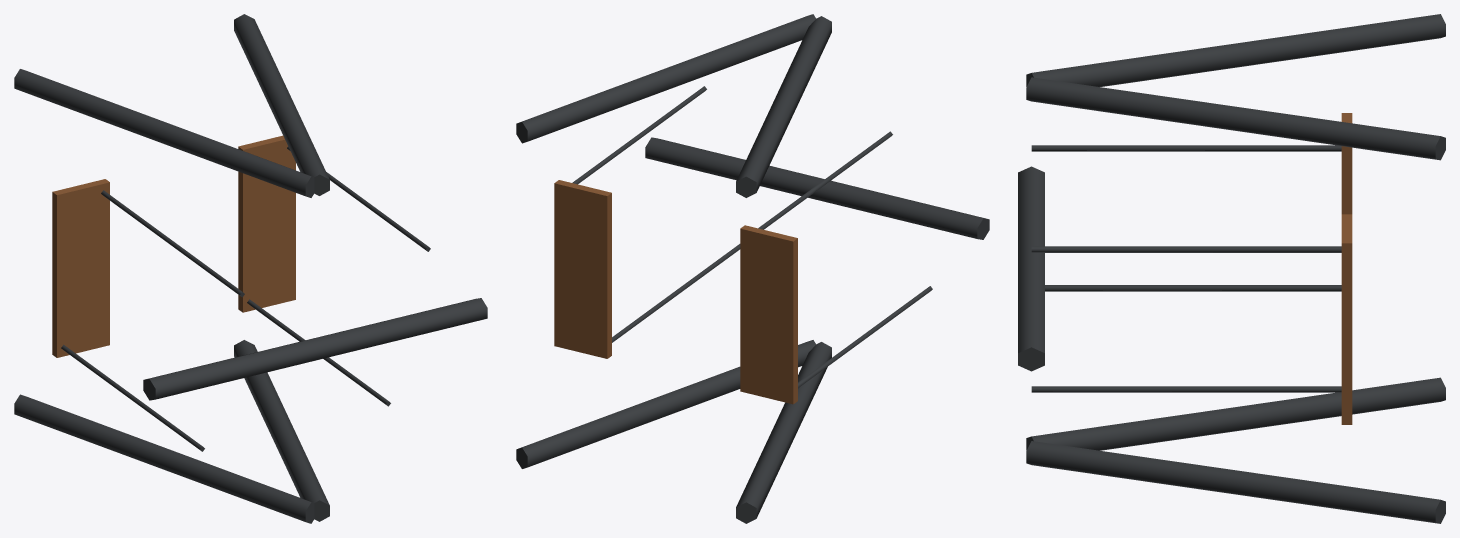
The model's file is playset.glb.
3 renders of one model, left to right at view 1: azimuth 30°, elevation 25°; view 2: azimuth 150°, elevation 25°; view 3: azimuth 270°, elevation 25°, orthographic. The views are drawn at different scales.
Size of the model in its own units: 1 by 1 by 1.
